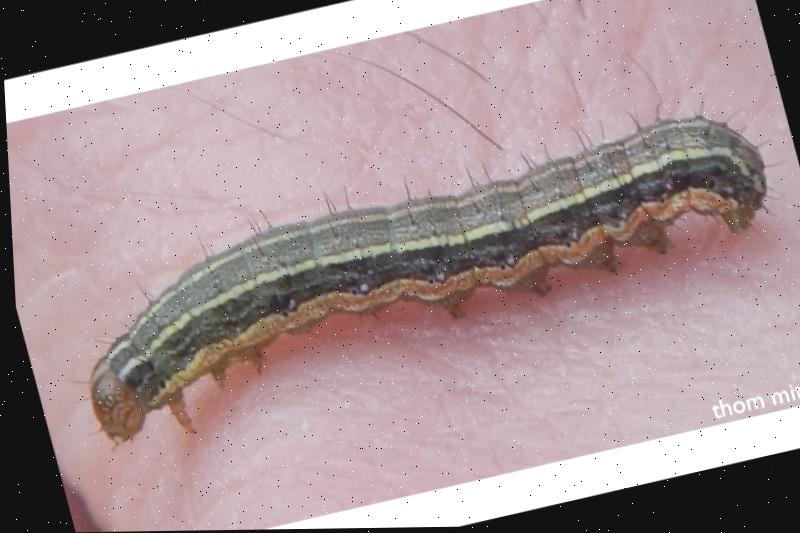fall-armyworm: (84, 119, 767, 446)
